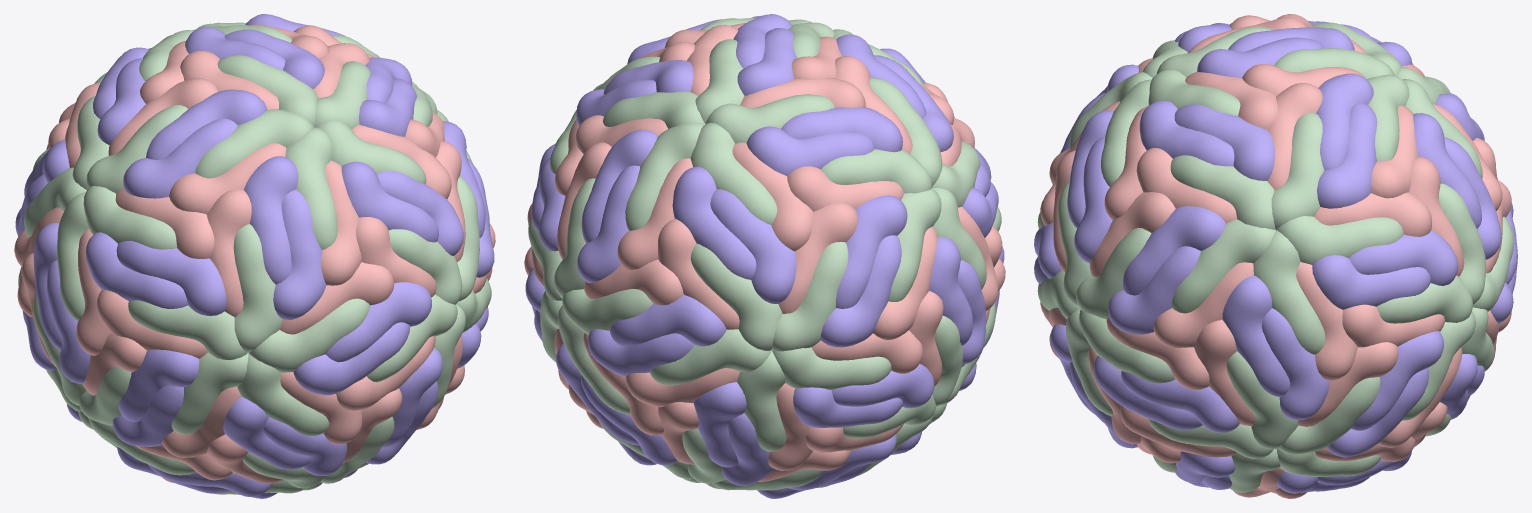
Rendered from denguevirus_50_draco.glb.
The picture shows the model from 3 angles, left to right: view 1: azimuth 30°, elevation 25°; view 2: azimuth 150°, elevation 25°; view 3: azimuth 270°, elevation 25°; orthographic projection.
Visible parts, largest first — view 1: denguevirus.cif assembly 1_A Gaussian surface, denguevirus.cif assembly 1_C Gaussian surface, denguevirus.cif assembly 1_B Gaussian surface; view 2: denguevirus.cif assembly 1_A Gaussian surface, denguevirus.cif assembly 1_C Gaussian surface, denguevirus.cif assembly 1_B Gaussian surface; view 3: denguevirus.cif assembly 1_A Gaussian surface, denguevirus.cif assembly 1_C Gaussian surface, denguevirus.cif assembly 1_B Gaussian surface.
Part boxes in pixels (<box>): denguevirus.cif assembly 1_A Gaussian surface: <box>15,14,494,498</box>; denguevirus.cif assembly 1_C Gaussian surface: <box>18,22,491,494</box>; denguevirus.cif assembly 1_B Gaussian surface: <box>14,24,495,483</box>; denguevirus.cif assembly 1_A Gaussian surface: <box>525,14,1004,498</box>; denguevirus.cif assembly 1_C Gaussian surface: <box>528,18,1001,490</box>; denguevirus.cif assembly 1_B Gaussian surface: <box>524,23,1005,487</box>; denguevirus.cif assembly 1_A Gaussian surface: <box>1034,21,1517,493</box>; denguevirus.cif assembly 1_C Gaussian surface: <box>1037,22,1514,492</box>; denguevirus.cif assembly 1_B Gaussian surface: <box>1040,14,1511,498</box>.
Size of the model in its own units: 499 by 499 by 499.
